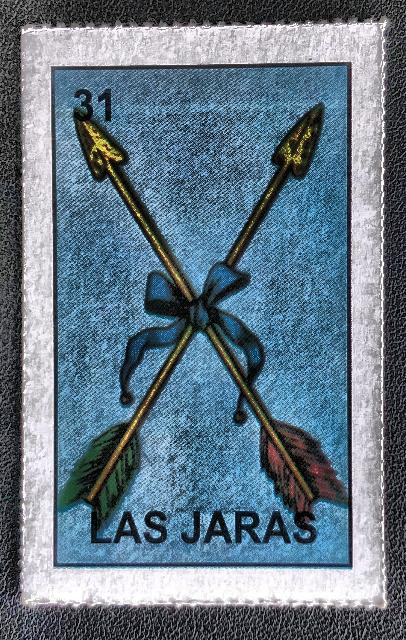Las Jaras: (37, 40, 379, 592)
